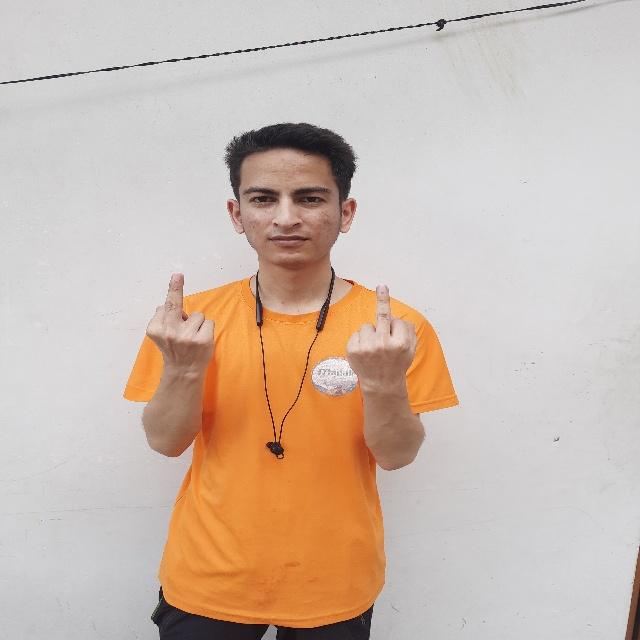Middle Finger: (140, 267, 224, 391), (339, 278, 421, 393)
